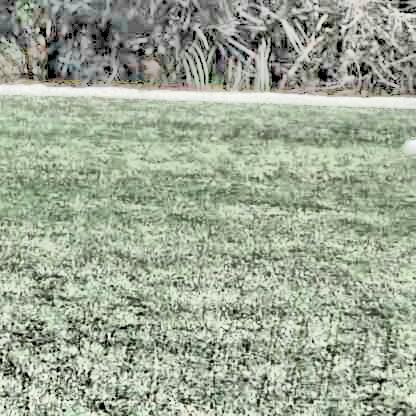golfball: (402, 133, 414, 151)
